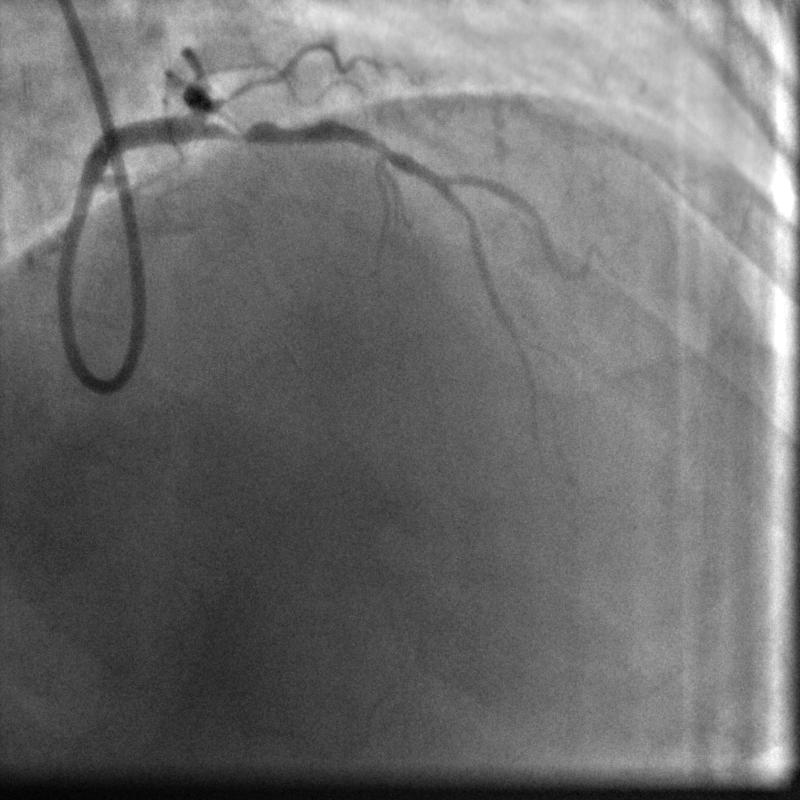Stenosis: (223, 114, 312, 141)
